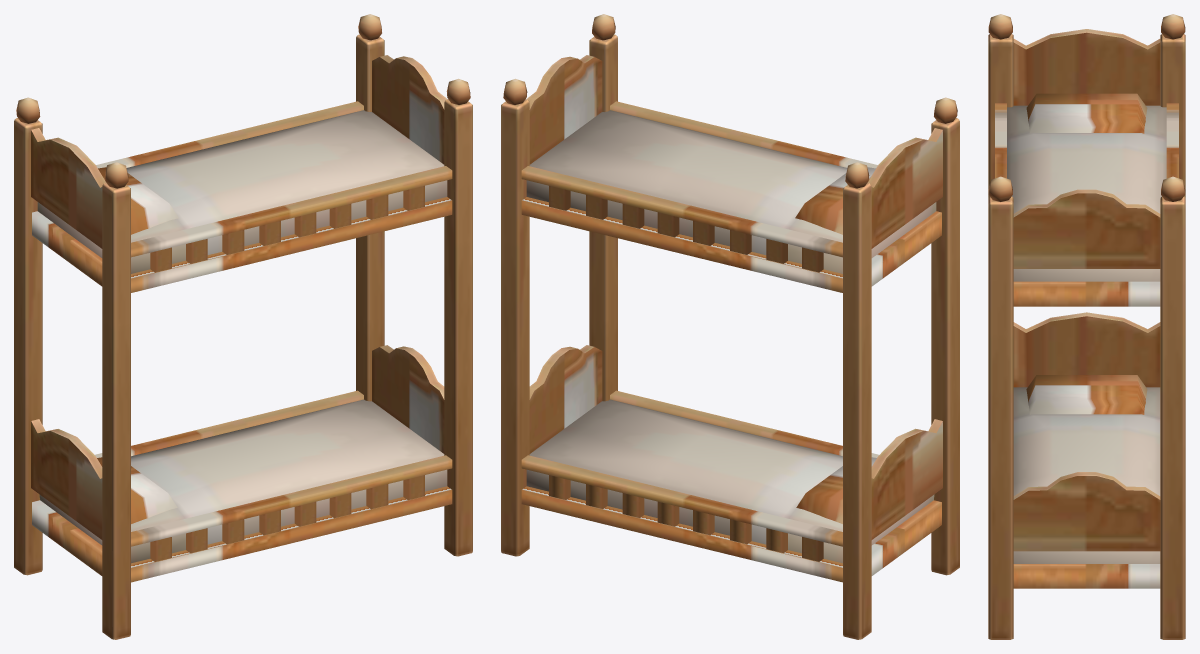
Rendered from int_oth_bunkbed.dae.
The picture shows the model from 3 angles, left to right: view 1: azimuth 30°, elevation 25°; view 2: azimuth 150°, elevation 25°; view 3: azimuth 270°, elevation 25°; orthographic projection. The views are drawn at different scales.
Parts seen in each view (by area): view 1: int_oth_bunkbed; view 2: int_oth_bunkbed; view 3: int_oth_bunkbed.
Part boxes in pixels (box(x1,y1,x2,y2)): int_oth_bunkbed: box(14, 14, 472, 639); int_oth_bunkbed: box(501, 14, 959, 639); int_oth_bunkbed: box(988, 14, 1185, 639).
Bounding box in the file's own units: 62.97 × 77.74 × 30.29.
Materials: 1 (1 with a texture image).
